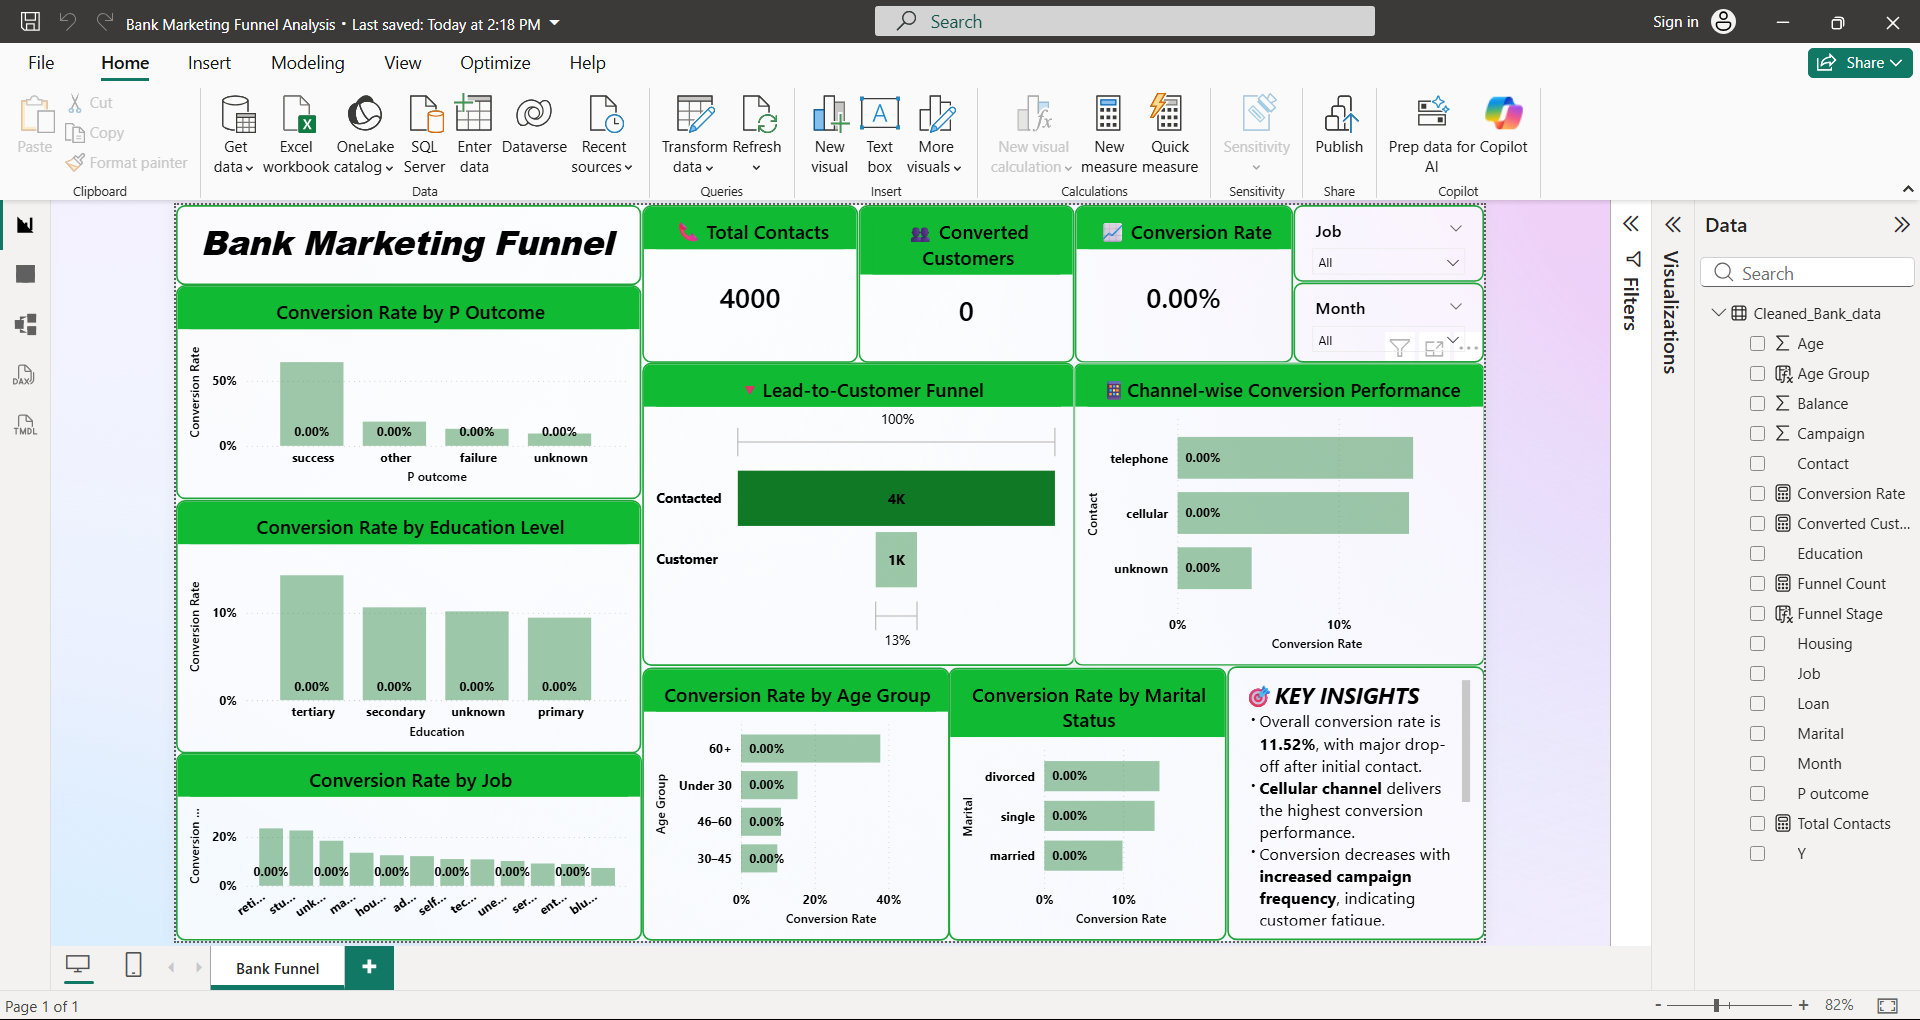

What the dashboard file says about the page in this screenshot:
{"tool":"powerbi","page":{"name":"Page 1","canvas":[1280,720],"ordinal":0},"visuals":[{"type":"card","title":"Total Contacts","fields":{"Values":["Cleaned_Bank_data.Total Contacts"]},"box":[455.6,0,211.3,153.7],"z":0},{"type":"card","title":"Converted Customers","fields":{"Values":["Cleaned_Bank_data.Total Customers"]},"box":[666.9,0,219.6,153.7],"z":1000},{"type":"card","title":"Conversion Rate","fields":{"Values":["Cleaned_Bank_data.Conversion Rate"]},"box":[886.6,0,210.3,154.1],"z":2000},{"type":"funnel","title":"Lead-to-Customer Funnel","fields":{"Y":["Cleaned_Bank_data.Funnel Count"],"Category":["Cleaned_Bank_data.Funnel Stage"]},"box":[455.6,153.7,413,299.1],"z":3000},{"type":"clusteredBarChart","title":"Channel-wise Conversion Performance","fields":{"Category":["Cleaned_Bank_data.Contact"],"Y":["Cleaned_Bank_data.Conversion Rate"]},"box":[868.6,153.7,411.7,299.1],"z":4000},{"type":"slicer","fields":{"Values":["Cleaned_Bank_data.Month"]},"box":[1093.7,75.5,186.6,78.2],"z":5000},{"type":"slicer","fields":{"Values":["Cleaned_Bank_data.Job"]},"box":[1093.7,0,186.6,75.5],"z":6000},{"type":"clusteredBarChart","title":"Conversion Rate by Marital Status","fields":{"Category":["Cleaned_Bank_data.Marital"],"Y":["Cleaned_Bank_data.Conversion Rate"]},"box":[756.1,452.8,271.7,267.6],"z":7000},{"type":"clusteredColumnChart","title":"Conversion Rate by Education Level","fields":{"Category":["Cleaned_Bank_data.Education"],"Y":["Cleaned_Bank_data.Conversion Rate"]},"box":[0,288.2,455.6,248.4],"z":8000},{"type":"clusteredBarChart","fields":{"Category":["Cleaned_Bank_data.Age Group"],"Y":["Cleaned_Bank_data.Conversion Rate"]},"box":[455.6,452.8,300.5,267.6],"z":9000},{"type":"clusteredColumnChart","title":"Conversion Rate by P Outcome","fields":{"Y":["Cleaned_Bank_data.Conversion Rate"],"Category":["Cleaned_Bank_data.P out Come"]},"box":[0,78.2,455.6,209.9],"z":10000},{"type":"textbox","title":"Bank Marketing Funnel","box":[0,0,455.6,78.2],"z":11000},{"type":"clusteredColumnChart","fields":{"Category":["Cleaned_Bank_data.Job"],"Y":["Cleaned_Bank_data.Conversion Rate"]},"box":[0,536,456,184],"z":12000},{"type":"textbox","box":[1028.4,451.2,251.9,267.8],"z":13000}]}

Visuals, with their boxes on the page's 1280x720 design canvas (x1, y1, x2, y2). These are canvas units, not pixel positions in the 1920x1020 screenshot, which may show the page scaled, cropped or inside an application window:
"Total Contacts" card: 456/0/667/154
"Converted Customers" card: 667/0/886/154
"Conversion Rate" card: 887/0/1097/154
"Lead-to-Customer Funnel" funnel: 456/154/869/453
"Channel-wise Conversion Performance" clusteredBarChart: 869/154/1280/453
slicer - Cleaned_Bank_data.Month: 1094/76/1280/154
slicer - Cleaned_Bank_data.Job: 1094/0/1280/76
"Conversion Rate by Marital Status" clusteredBarChart: 756/453/1028/720
"Conversion Rate by Education Level" clusteredColumnChart: 0/288/456/537
clusteredBarChart - Cleaned_Bank_data.Age Group x Cleaned_Bank_data.Conversion Rate: 456/453/756/720
"Conversion Rate by P Outcome" clusteredColumnChart: 0/78/456/288
"Bank Marketing Funnel" textbox: 0/0/456/78
clusteredColumnChart - Cleaned_Bank_data.Job x Cleaned_Bank_data.Conversion Rate: 0/536/456/720
textbox: 1028/451/1280/719
